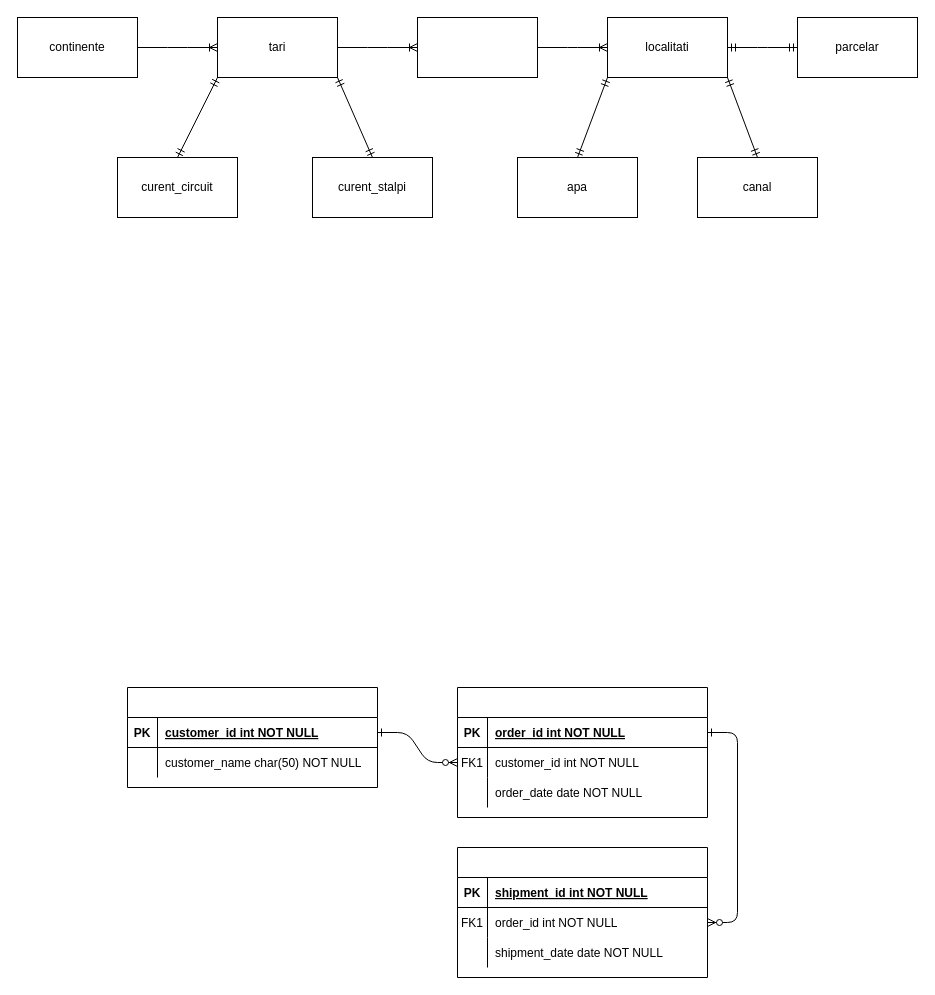
The diagram is 935 pixels wide and 995 high, and some of its shapes have lost their labels. Each missing label, with the box of its shape:
Customers: (126, 686, 378, 788)
district: (416, 16, 538, 78)
Orders: (456, 686, 708, 818)
Shipments: (456, 846, 708, 978)
